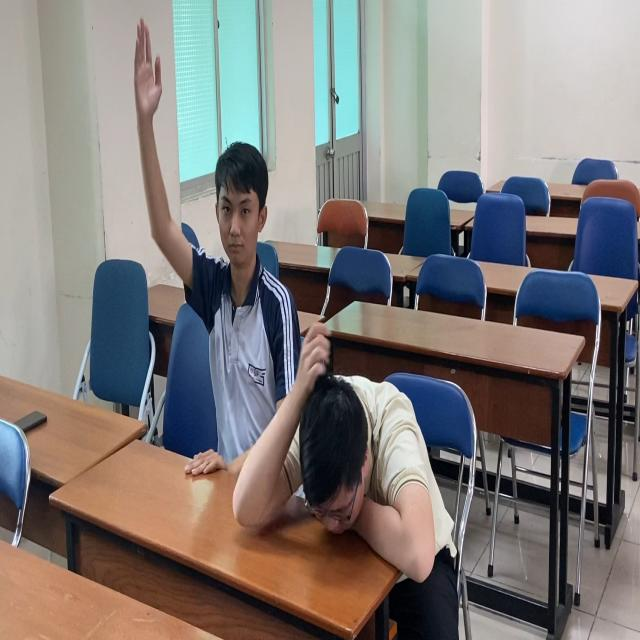raise_hand: (129, 27, 265, 466)
sleep: (233, 322, 456, 590)
